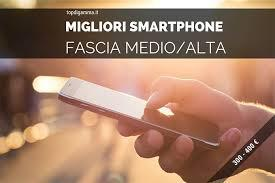Hand: (118, 72, 255, 175)
Smartphone: (52, 76, 219, 143)
